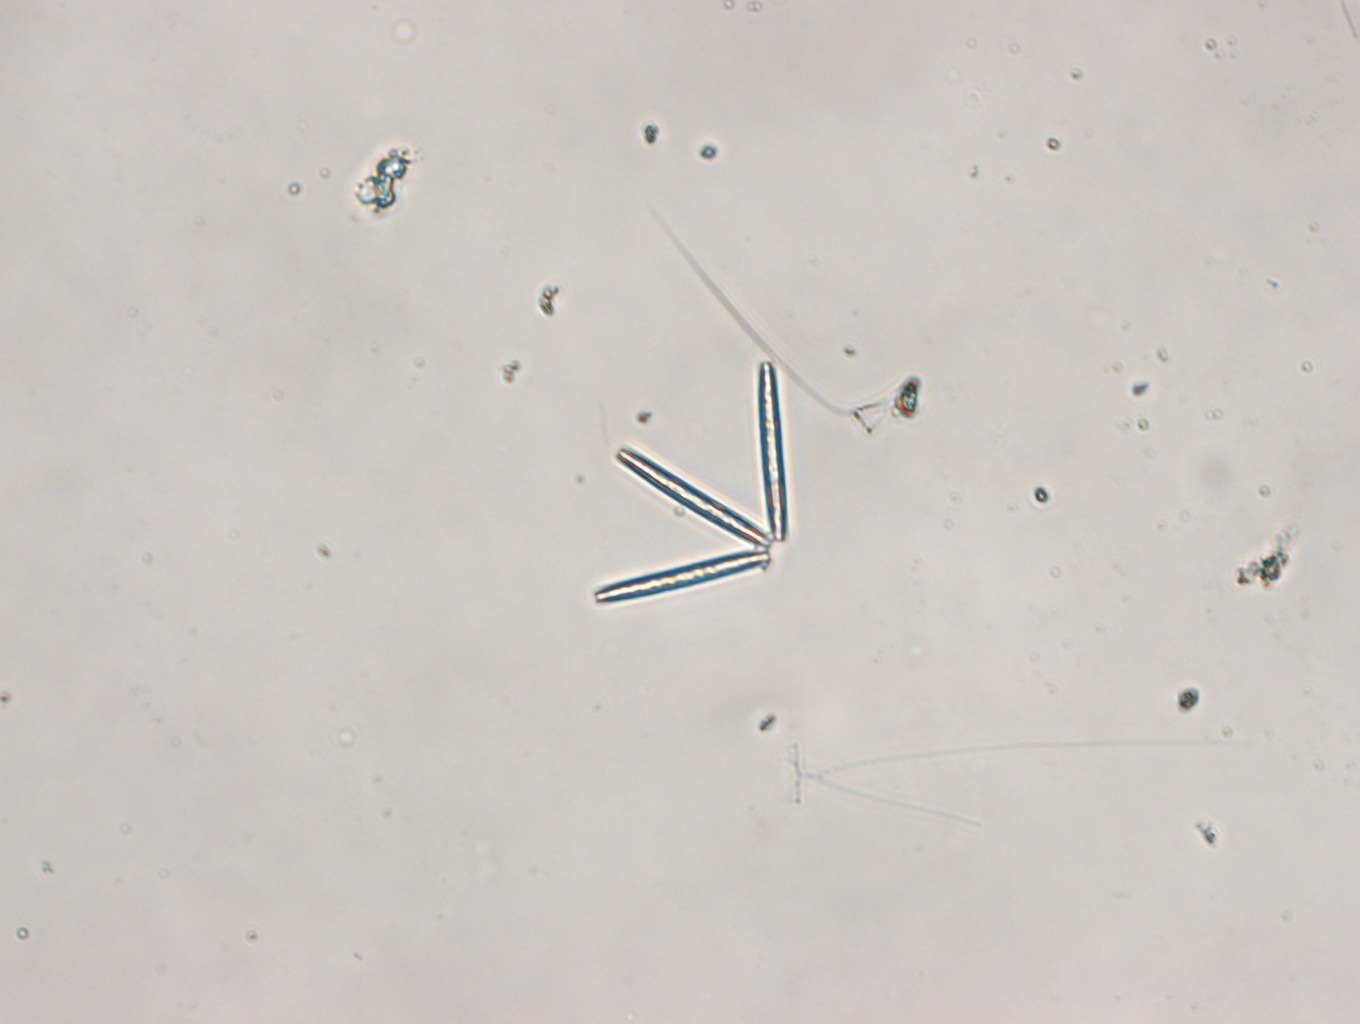thalassionema nitzschioides: (586, 356, 791, 606)
